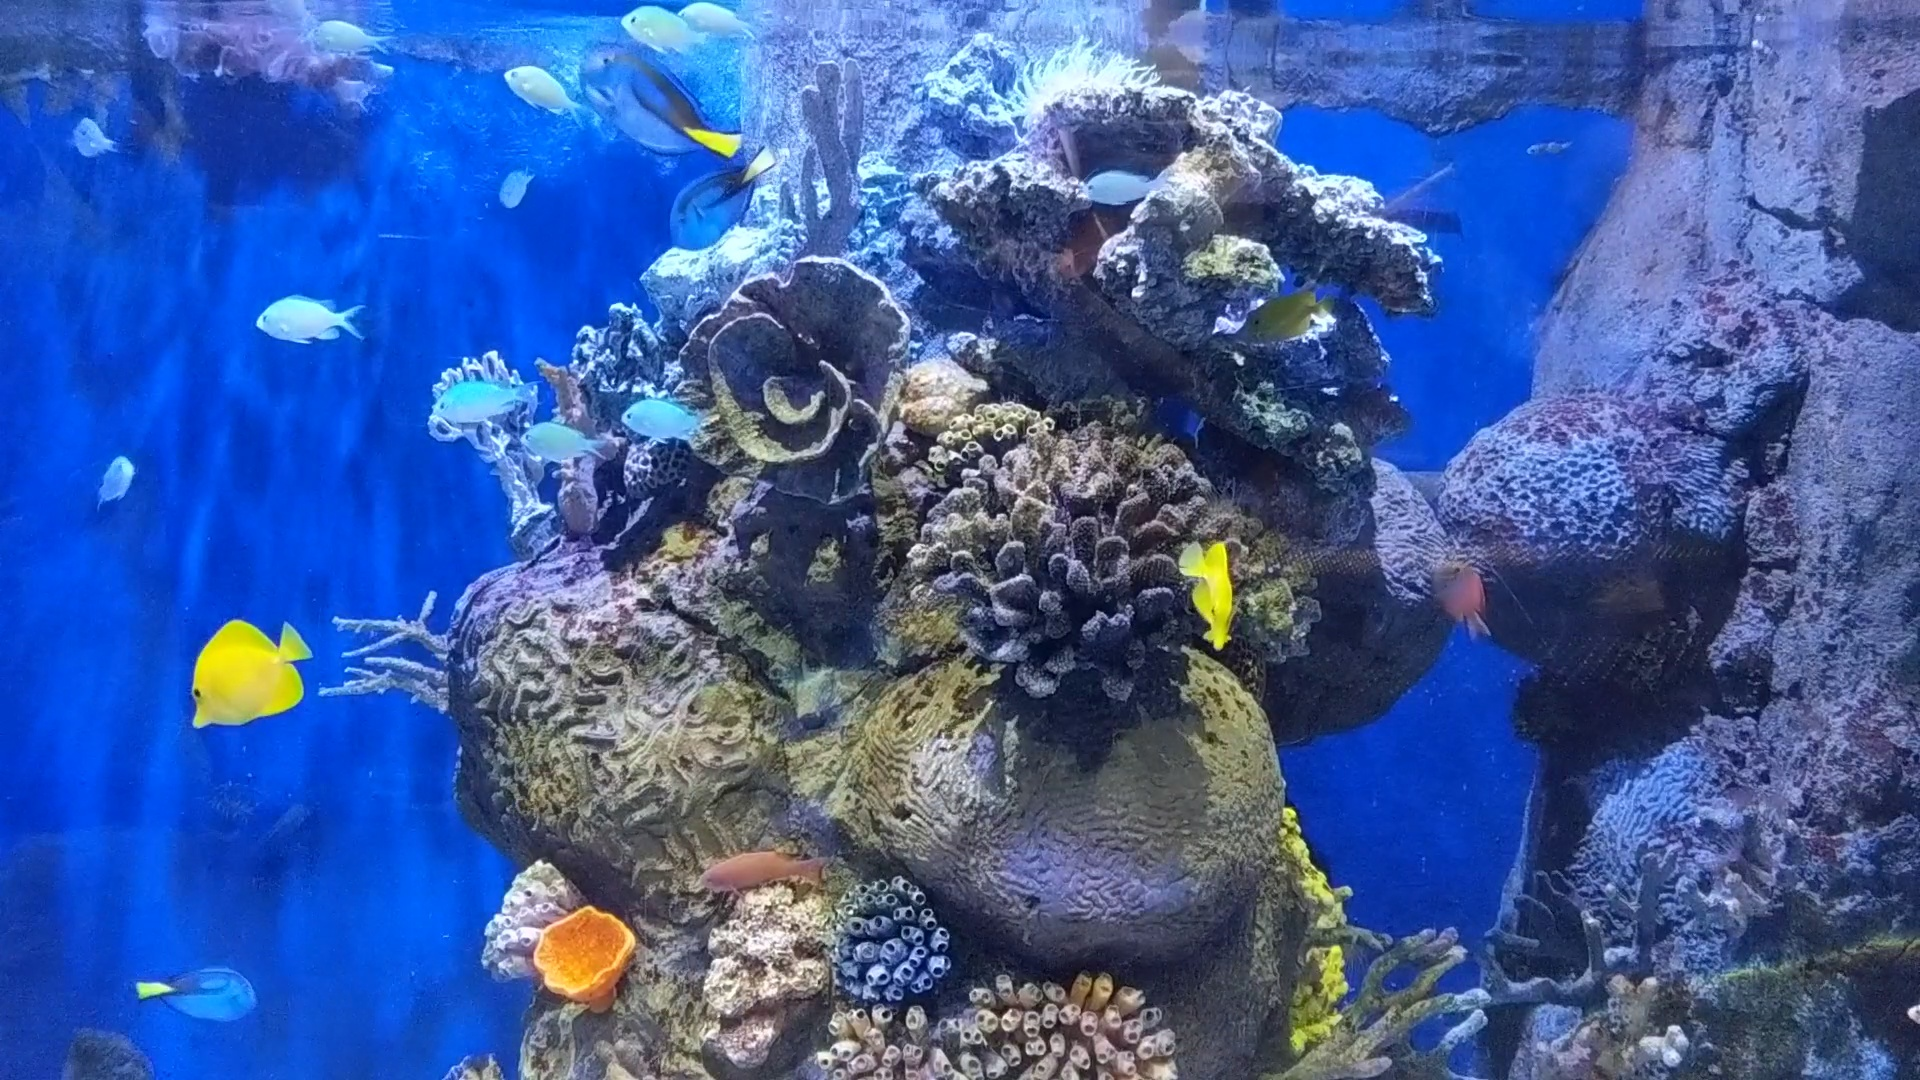blue tang surgeonfish: (556, 29, 753, 167), (651, 129, 785, 257), (123, 951, 276, 1036)
damselfish: (248, 278, 363, 352), (487, 53, 582, 129), (608, 0, 715, 63), (502, 404, 611, 465), (622, 390, 717, 448), (425, 372, 530, 422), (1077, 169, 1178, 214), (669, 0, 760, 47), (298, 18, 388, 57), (59, 98, 119, 153), (83, 454, 138, 504)
pink fish: (1404, 522, 1506, 654)
saddle butterfly fish: (178, 603, 320, 740), (1155, 522, 1255, 666), (1217, 294, 1332, 342)
